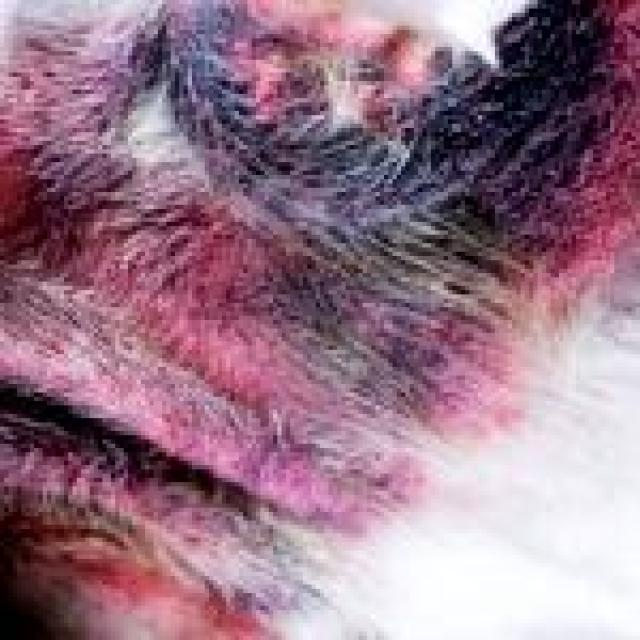fungal infection: (35, 206, 533, 454), (0, 410, 306, 640), (0, 0, 212, 191), (505, 2, 640, 266), (221, 2, 467, 124), (0, 176, 80, 263)
